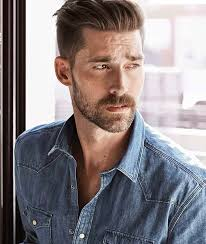b.y: (95, 94, 135, 133)
